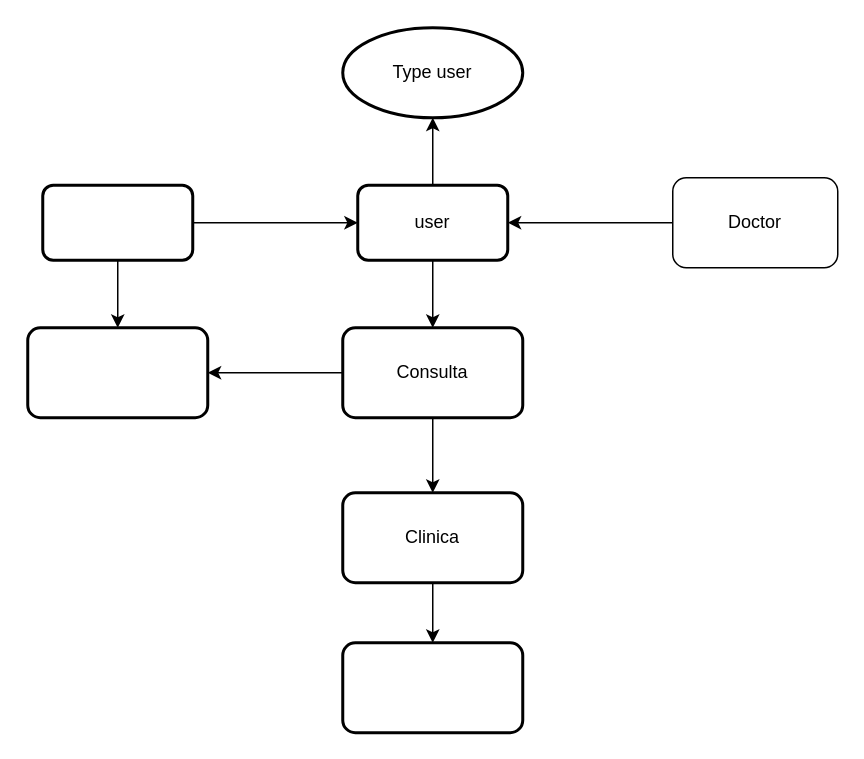
Image size: 864x759. Some labels were removed from this diagram. The box of each missing label's shape, as (x1, y1, x2, y2) in pixels:
Admin: (340, 640, 524, 734)
Exames: (26, 326, 208, 418)
Patient: (40, 183, 194, 261)
